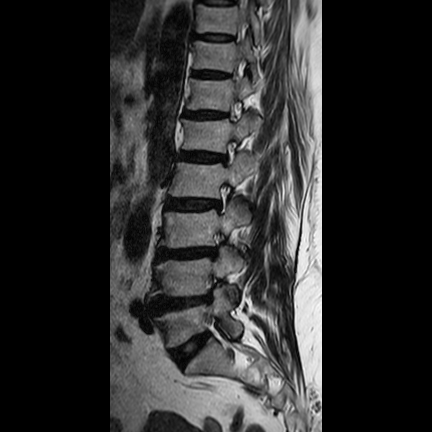LFS0: (203, 179, 238, 223), (210, 132, 246, 174)
